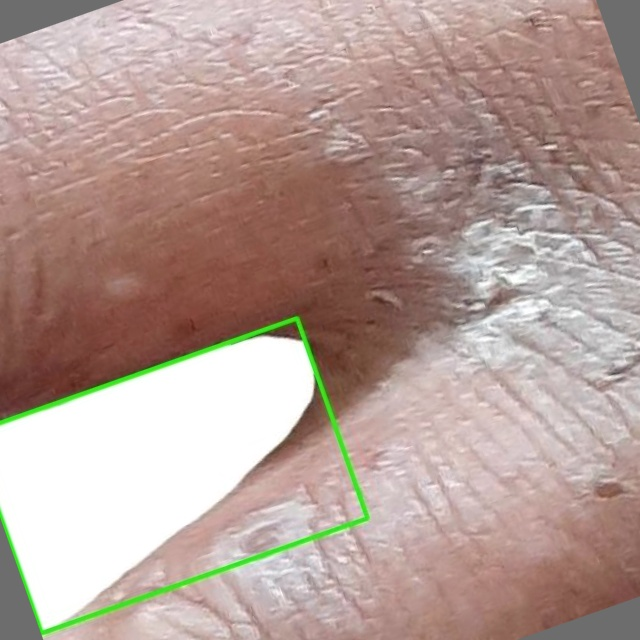Scabies: (0, 318, 367, 633)
